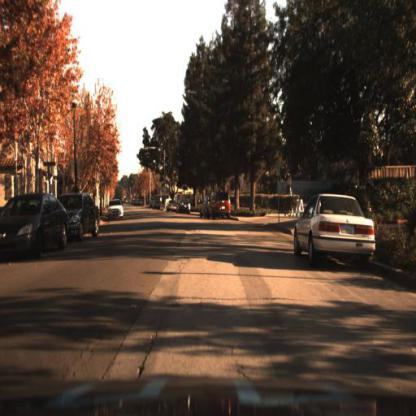car: (292, 192, 384, 268), (1, 196, 69, 262), (70, 188, 104, 246), (60, 194, 103, 236), (207, 192, 234, 220), (102, 197, 127, 227), (105, 198, 126, 223), (200, 190, 212, 221)
